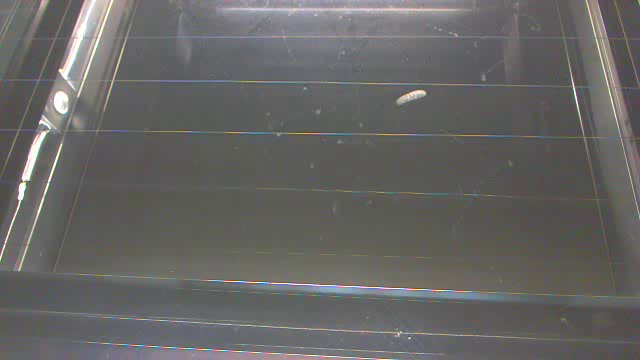alpha: (391, 88, 429, 108)
